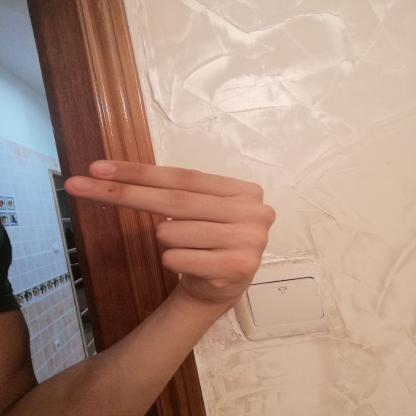AYN: (45, 146, 289, 316)
